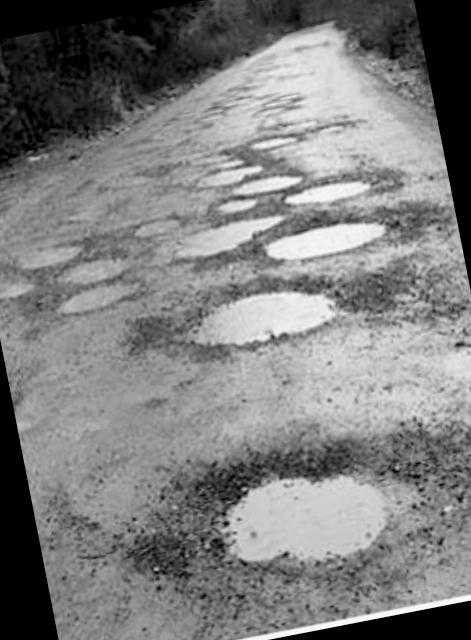Pothole: (136, 385, 471, 640), (162, 250, 392, 390), (190, 137, 303, 226), (251, 206, 400, 272), (166, 204, 294, 263), (267, 166, 396, 222), (37, 242, 137, 291), (54, 273, 157, 320), (11, 232, 92, 284), (99, 163, 170, 207), (294, 113, 372, 151), (242, 122, 298, 166), (0, 268, 54, 304), (128, 207, 182, 240)
